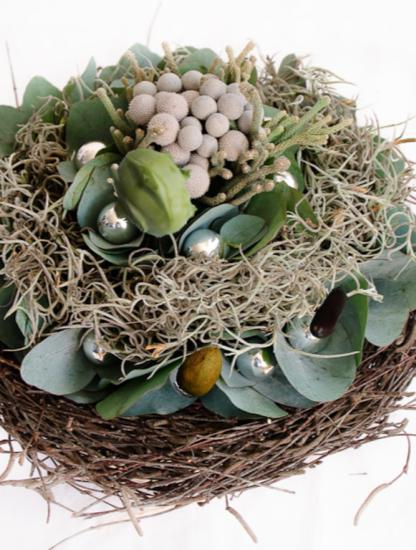Eggplant: (299, 280, 362, 343)
Kohlrabi: (105, 143, 202, 240)
Papaya: (173, 342, 230, 399)
